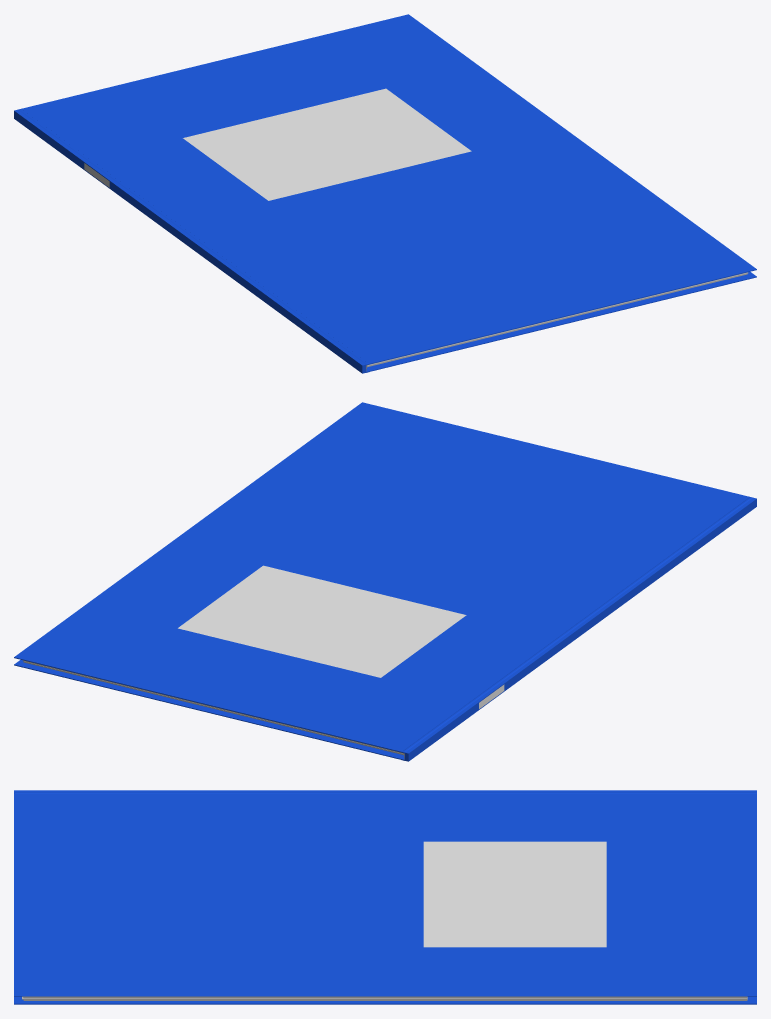
File: Book_3.fbx
3 views of the same model, one above another, from view 1: azimuth 30°, elevation 25°; view 2: azimuth 150°, elevation 25°; view 3: azimuth 270°, elevation 25° (orthographic). The views are drawn at different scales.
Parts seen in each view (by area): view 1: Book_3; view 2: Book_3; view 3: Book_3.
Part boxes in pixels (x1,y1,x2,y2): Book_3: [14, 14, 756, 373]; Book_3: [14, 402, 756, 761]; Book_3: [14, 790, 756, 1004].
Bounding box in the file's own units: 88.68 × 1.87 × 136.
